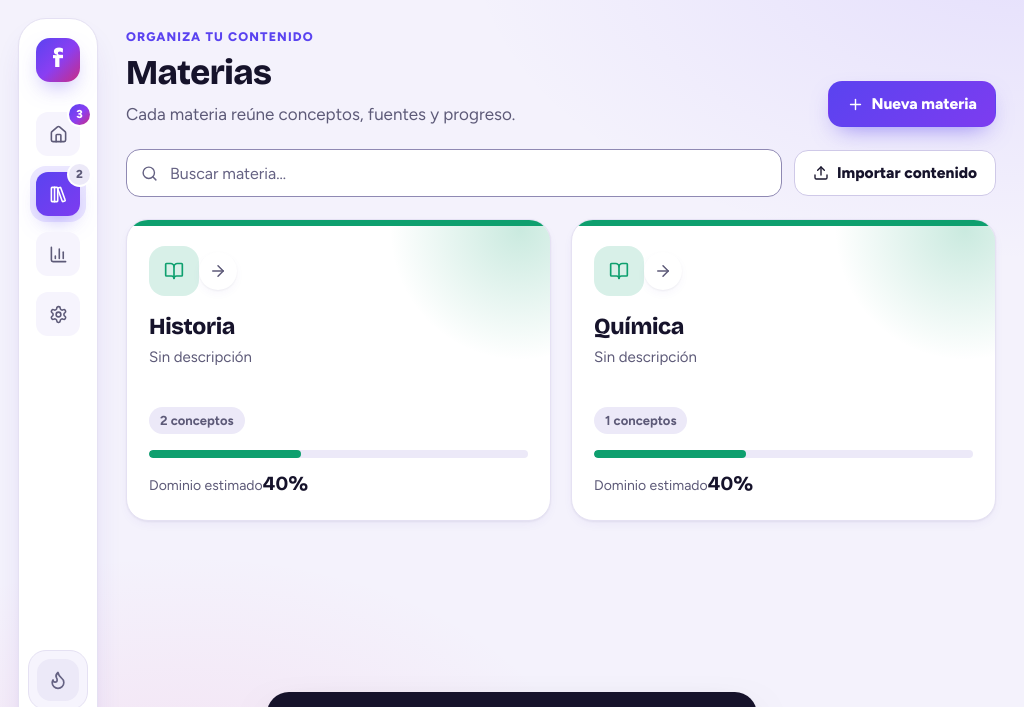
Test: materias archivadas › archivar retira la materia de los repasos sin borrar nada, y se puede recuperar
Earlier steps of the test are not shown.
Expected: the number of buttons with class "subject-card" is 2, [126,219,551,522]; [571,219,996,522]
Click the button "3" at (58, 134), box [30,106,86,162]
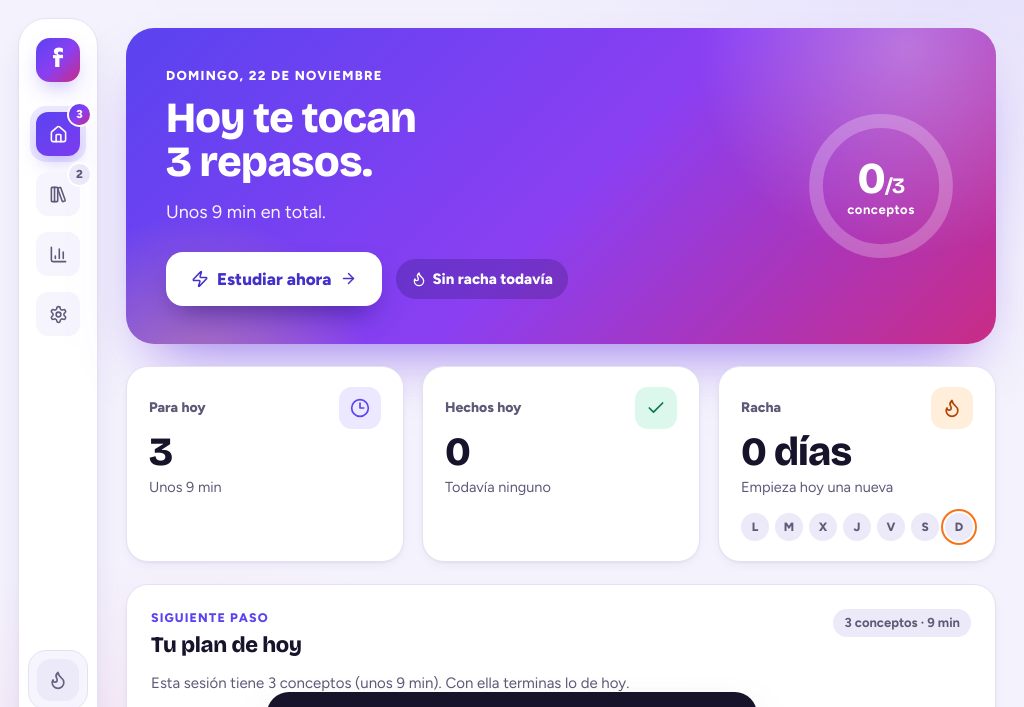
Result: the text "Hoy te tocan 3 repasos." is shown at [166,92,416,188]
